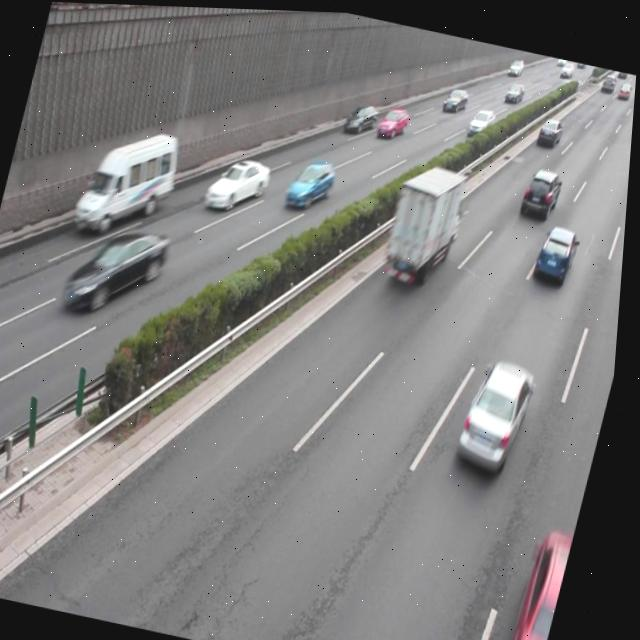bus: (383, 155, 474, 278)
car: (61, 211, 176, 324), (457, 349, 545, 470), (510, 519, 582, 640), (203, 148, 274, 217), (532, 216, 584, 285), (284, 151, 341, 211), (518, 159, 566, 220), (342, 95, 381, 135)
truck: (74, 116, 189, 242)
